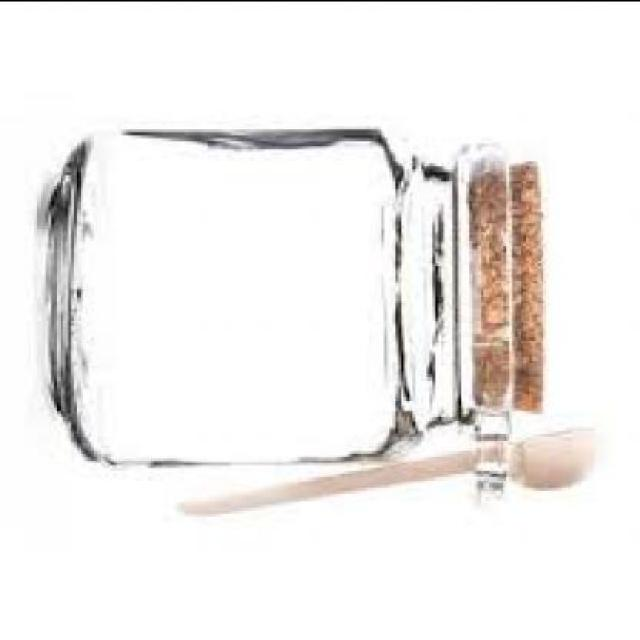GLASS: (40, 122, 515, 464)
